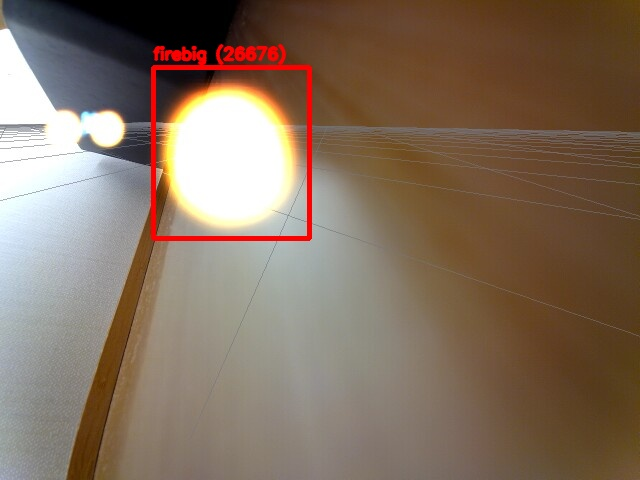firebig: (153, 67, 309, 238)
